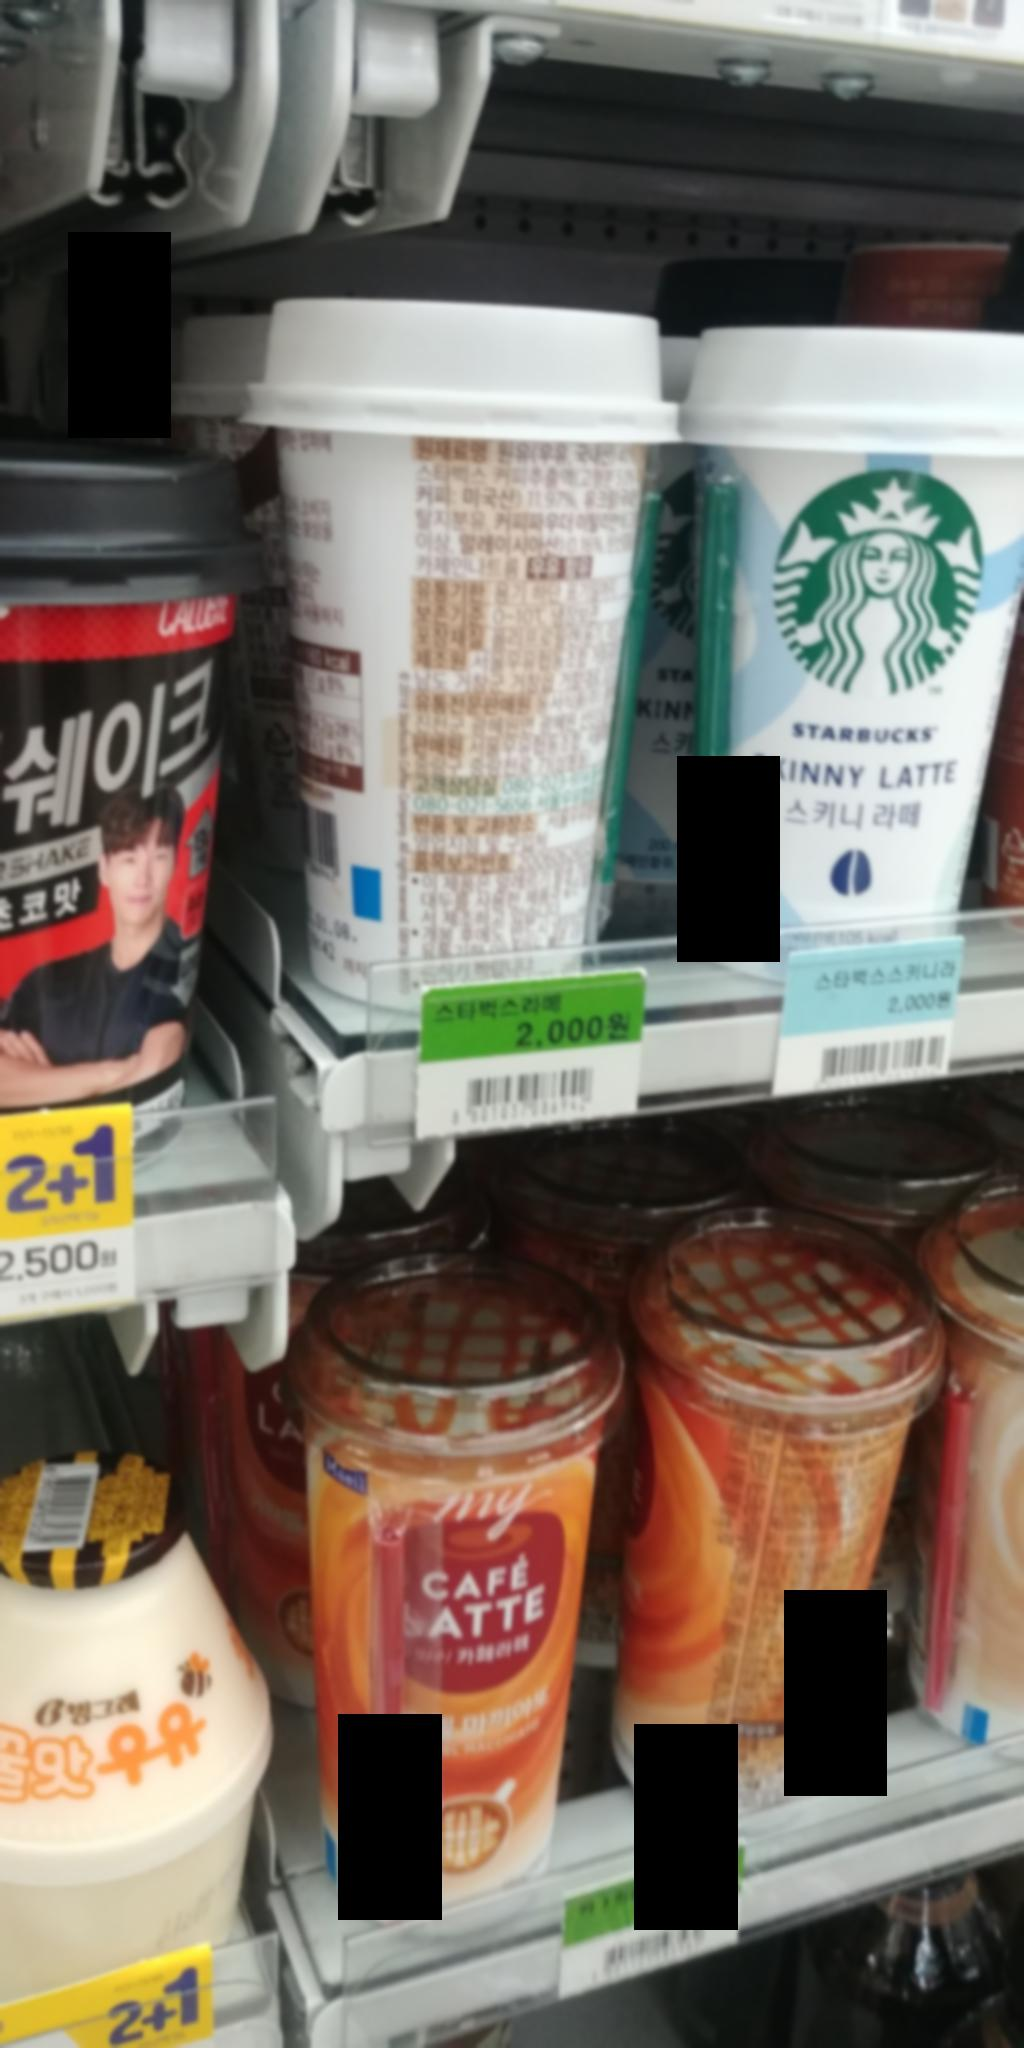starbucks_cafelatte: (240, 276, 682, 1014)
